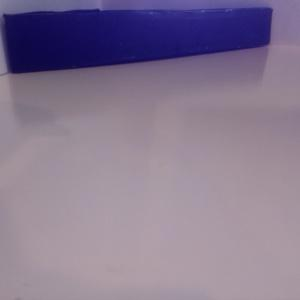zone: (1, 7, 272, 74)
